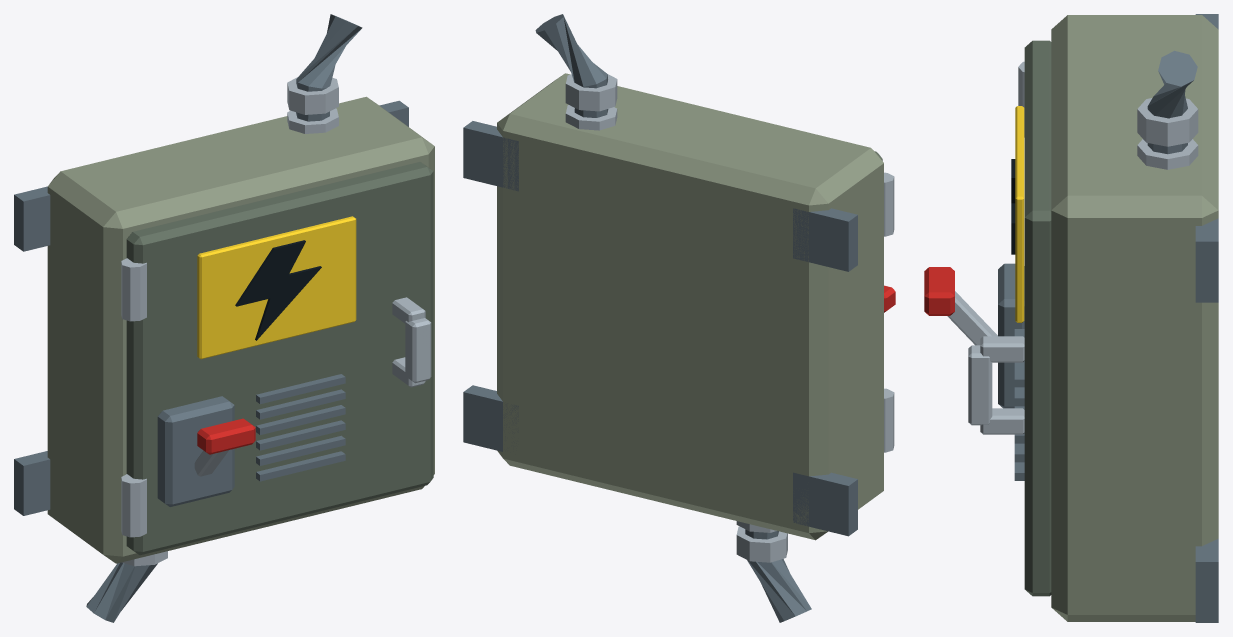
Rendered from electrical_hazard_box.fbx.
The picture shows the model from 3 angles, left to right: view 1: azimuth 30°, elevation 25°; view 2: azimuth 150°, elevation 25°; view 3: azimuth 270°, elevation 25°; orthographic projection. The views are drawn at different scales.
Visible parts, largest first — view 1: electrical_hazard_box; view 2: electrical_hazard_box; view 3: electrical_hazard_box.
Boxes of the visible parts, x1,y1,x2,y2 form: electrical_hazard_box: (14, 14, 434, 622); electrical_hazard_box: (463, 14, 895, 622); electrical_hazard_box: (924, 14, 1218, 622).
Size of the model in its own units: 220 by 300 by 120.
